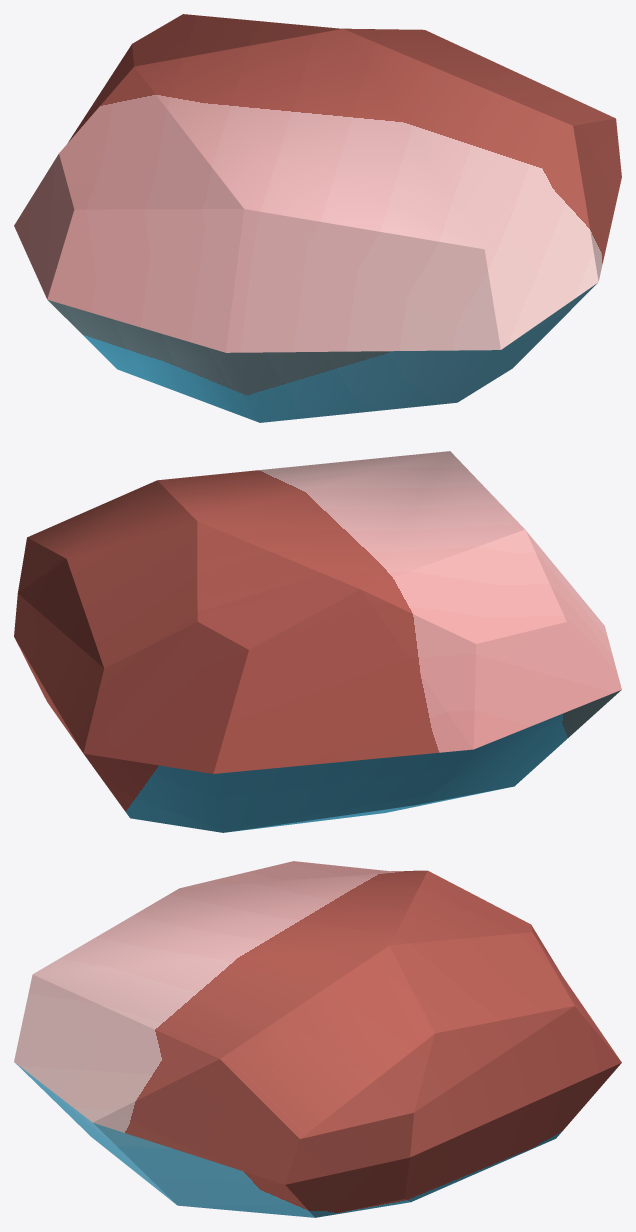
File: Prop_SnowmanButton.glb
3 renders of one model, top to bottom at view 1: azimuth 30°, elevation 25°; view 2: azimuth 150°, elevation 25°; view 3: azimuth 270°, elevation 25°, orthographic. The views are drawn at different scales.
Visible parts, largest first — view 1: Prop_SnowmanButton; view 2: Prop_SnowmanButton; view 3: Prop_SnowmanButton.
Boxes of the visible parts, bbox=[...] form: Prop_SnowmanButton: bbox=[14, 14, 621, 422]; Prop_SnowmanButton: bbox=[14, 451, 621, 832]; Prop_SnowmanButton: bbox=[14, 861, 621, 1217].
Bounding box in the file's own units: 0.0742 × 0.0336 × 0.0744.
Materials: 1 (1 with a texture image).
